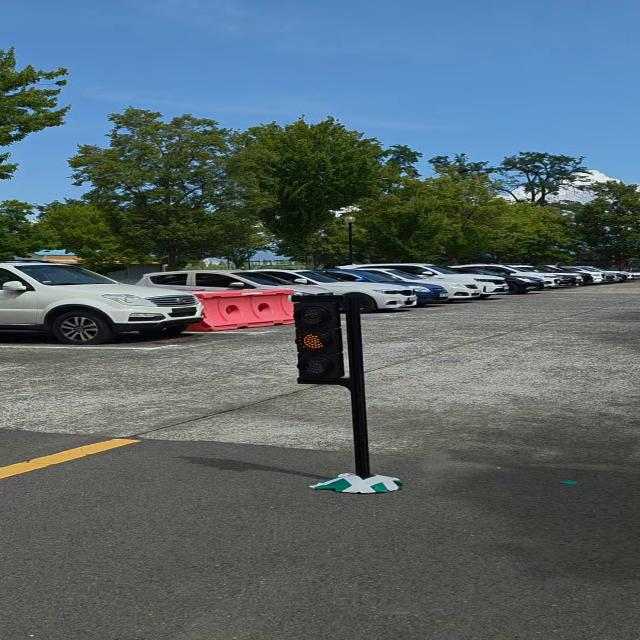yellow: (295, 294, 345, 388)
